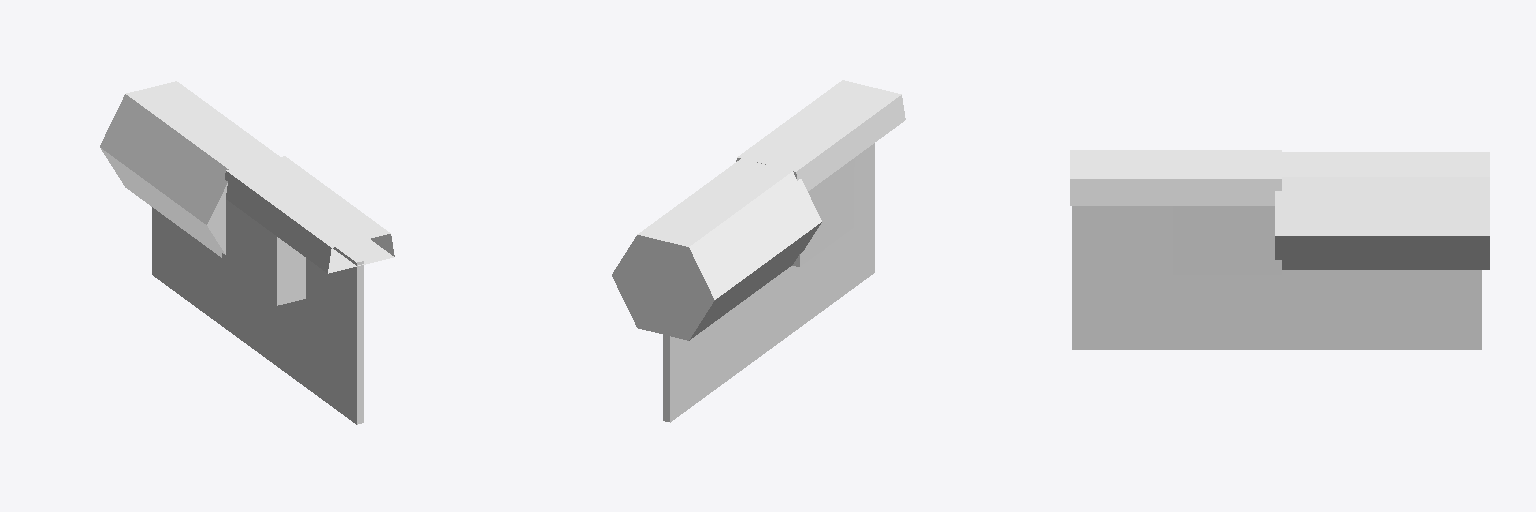
Rendered from acs46.obj.
The picture shows the model from 3 angles: view 1: azimuth 30°, elevation 25°; view 2: azimuth 150°, elevation 25°; view 3: azimuth 270°, elevation 25°; orthographic projection.
Visible parts, largest first — view 1: frm-iface, frm-diagnostic_periph, frm-comp_regulator; view 2: frm-diagnostic_periph, frm-iface, frm-comp_regulator; view 3: frm-iface, frm-diagnostic_periph, frm-comp_regulator.
Boxes of the visible parts, x1,y1,x2,y2 form: frm-iface: [152, 207, 363, 424]; frm-diagnostic_periph: [100, 81, 279, 257]; frm-comp_regulator: [222, 156, 394, 305]; frm-diagnostic_periph: [612, 159, 821, 340]; frm-iface: [663, 143, 874, 422]; frm-comp_regulator: [736, 80, 905, 266]; frm-iface: [1072, 206, 1481, 349]; frm-diagnostic_periph: [1275, 152, 1489, 269]; frm-comp_regulator: [1070, 150, 1281, 274].
Size of the model in its own units: 0.0673 by 0.1144 by 0.2367.